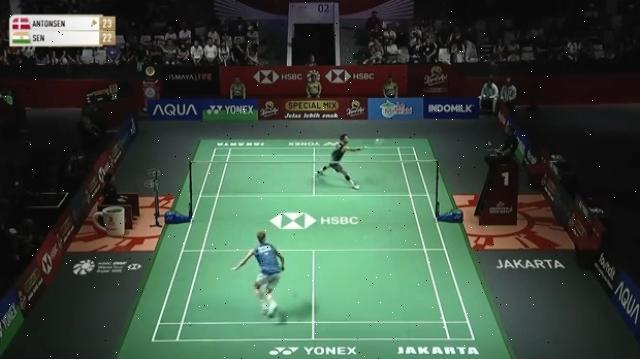Shuttlecock: (374, 136, 381, 144)
